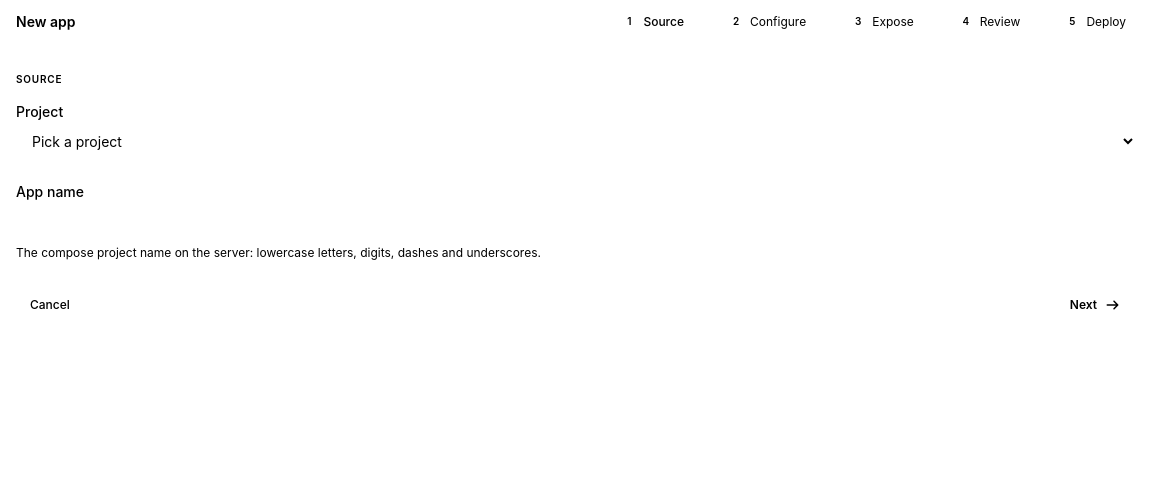
NewAppWizard source › says when a project has no compose file, or its files could not be listed
The image size is (1152, 497).
Select "Shop" in the dropdown labelled "Project": [576, 141] box [16, 123, 1136, 159]
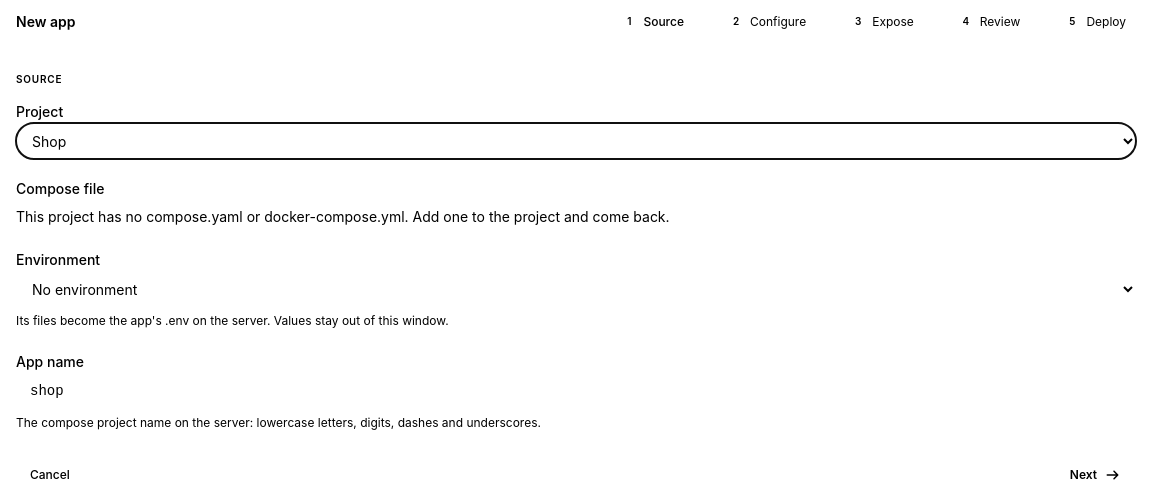
Result: the text "This project has no compose.yaml" is shown at [16, 208, 670, 225]
